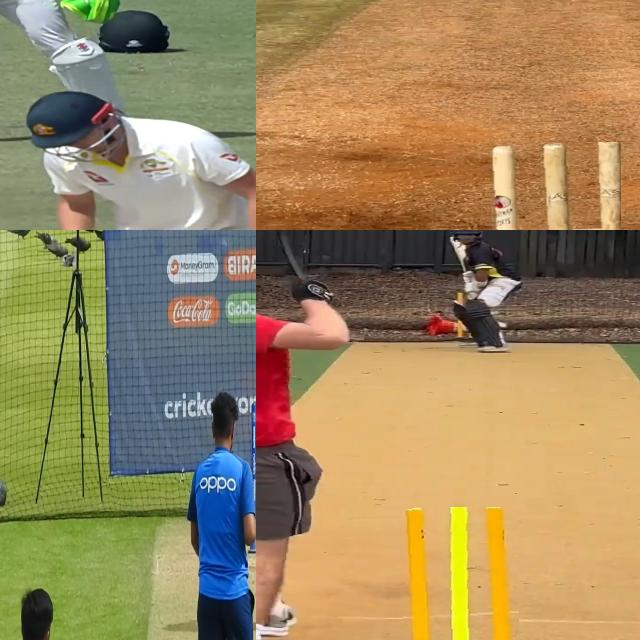Stumps: (389, 506, 519, 640), (484, 142, 621, 230), (248, 398, 256, 552)
